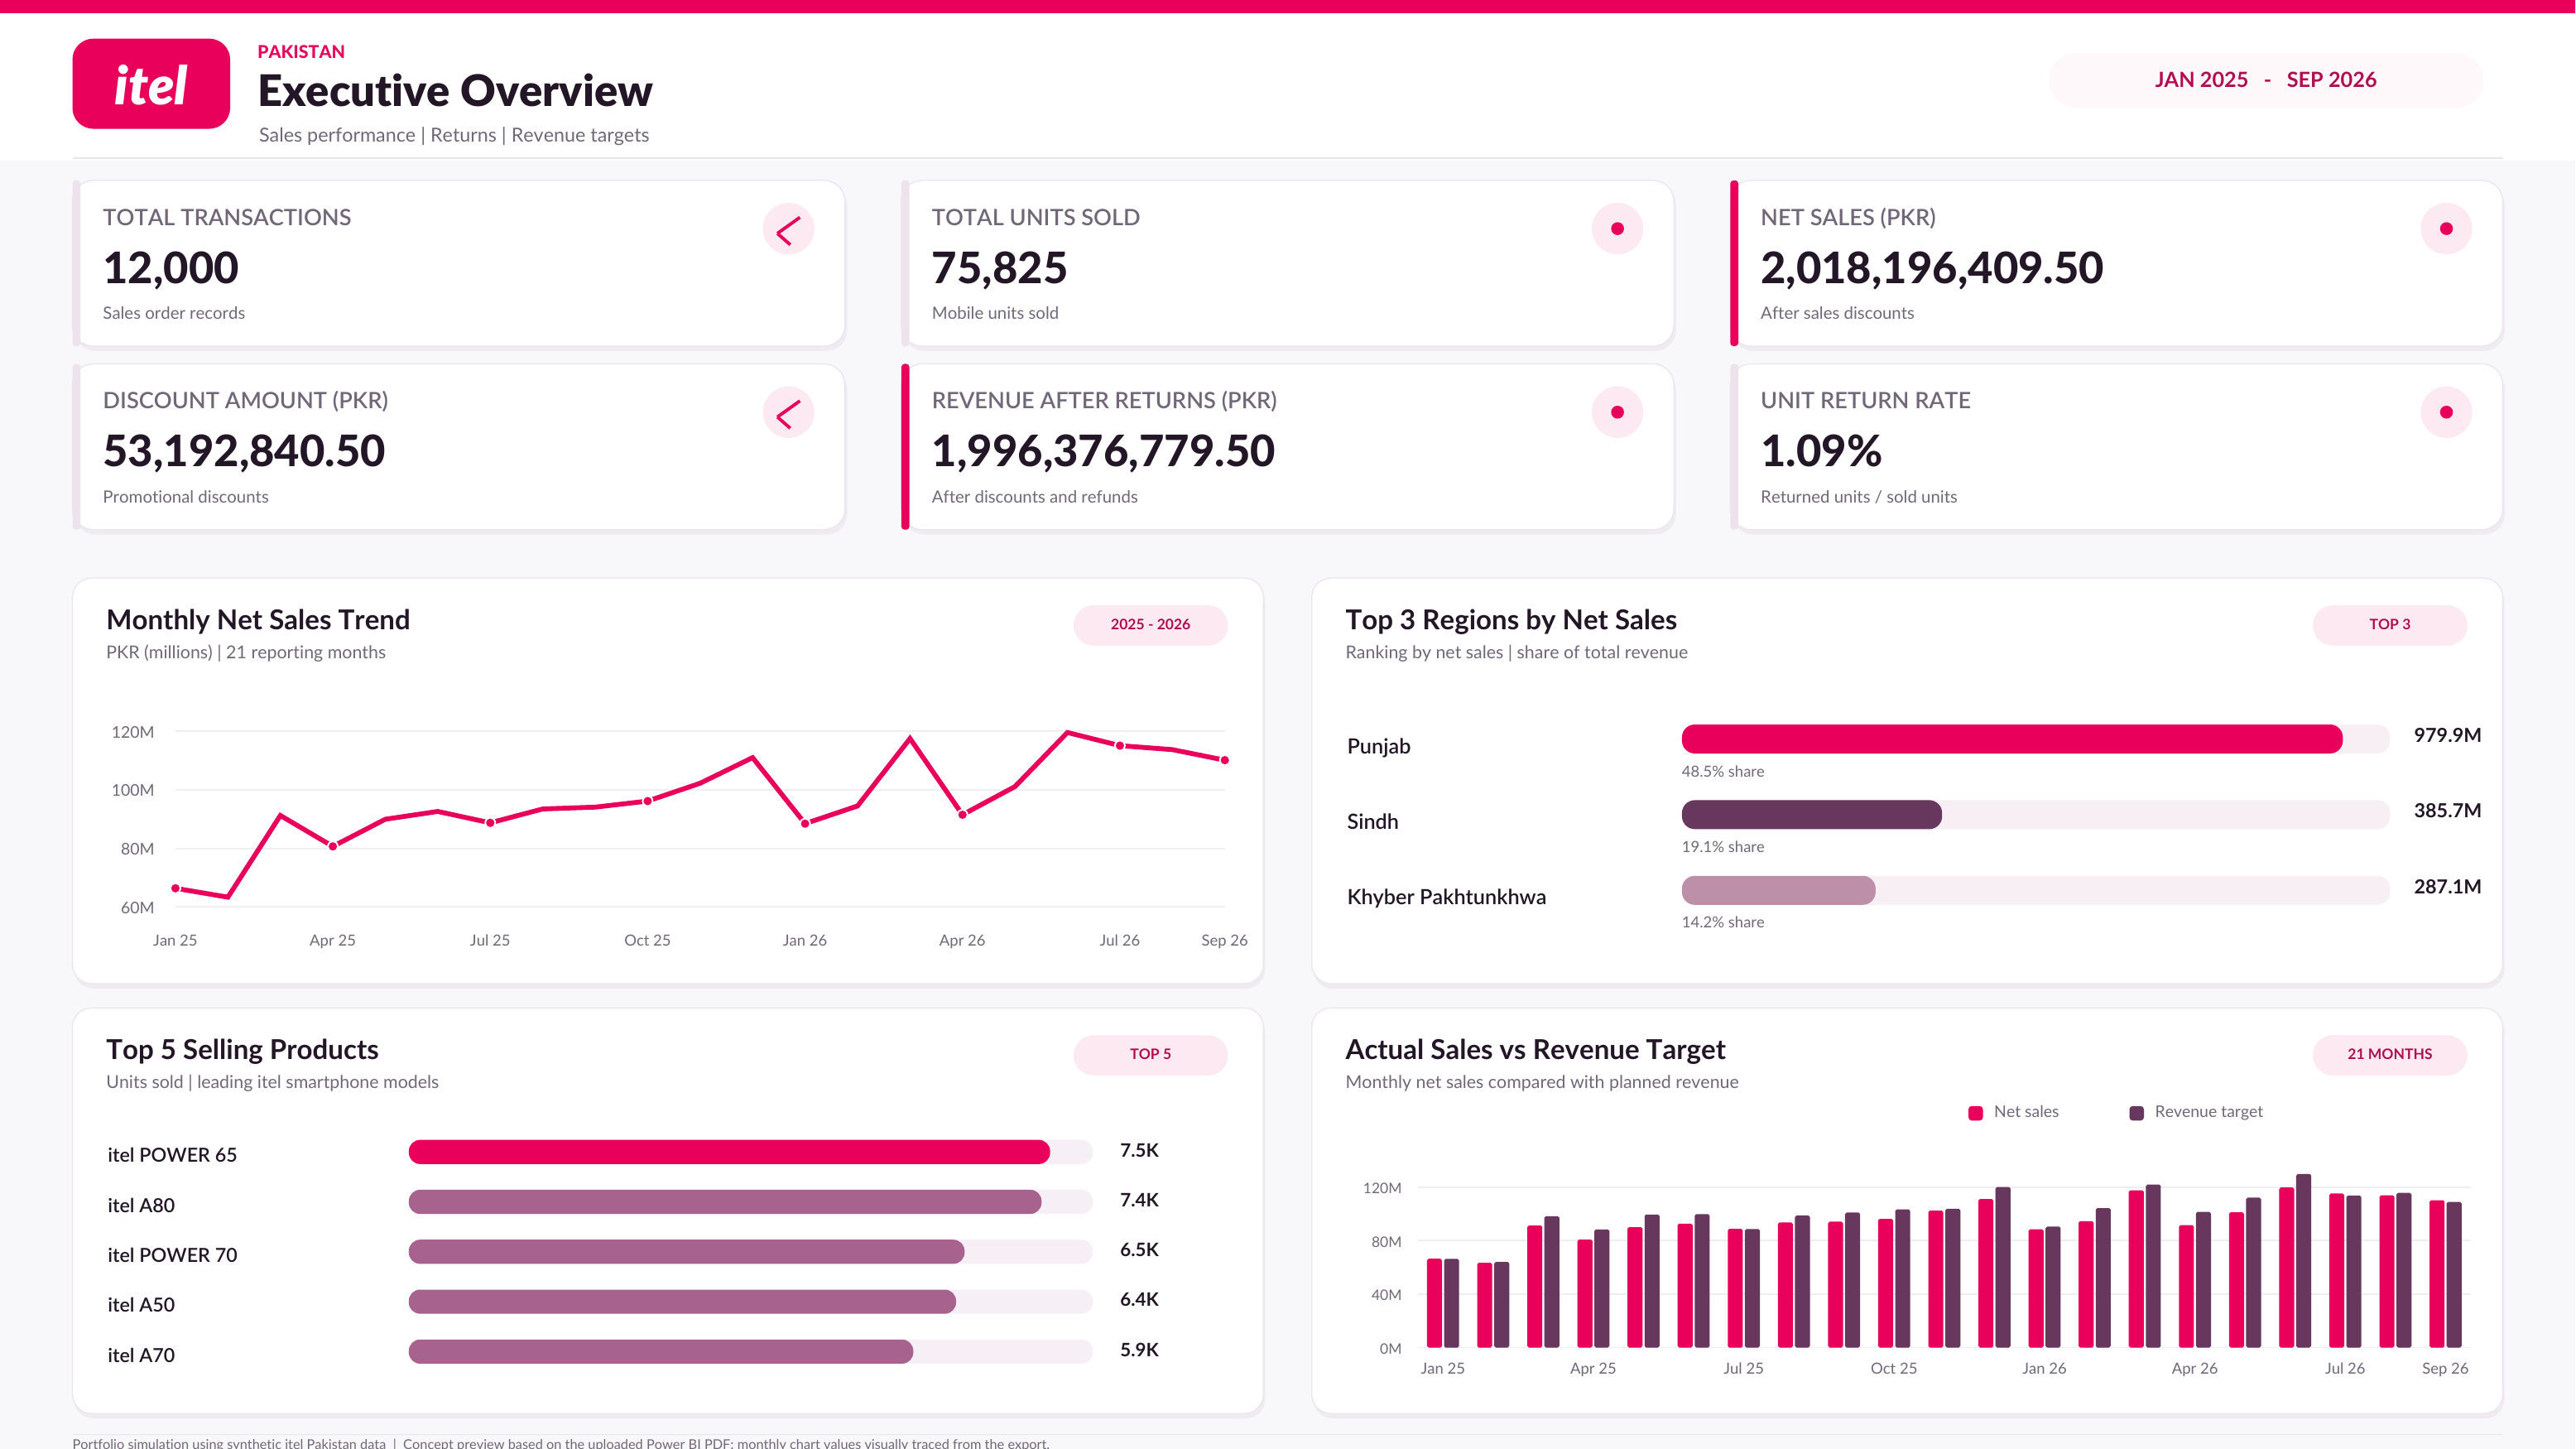

This screenshot's page, from the dashboard's own definition file:
{"tool":"powerbi","page":{"name":"Executive Dashboard","canvas":[1920,2200],"ordinal":0},"visuals":[{"type":"cardVisual","fields":{"Data":["All_Measures.Total Transactions"]},"box":[42.2,105.5,557.9,119.6],"z":0},{"type":"cardVisual","fields":{"Data":["All_Measures.Total Units Sold"]},"box":[618.9,107.8,548.6,119.6],"z":1000},{"type":"cardVisual","fields":{"Data":["All_Measures.Discount Amount PKR"]},"box":[42.2,248.5,560.3,140.7],"z":2000},{"type":"cardVisual","fields":{"Data":["All_Measures.Net Sales PKR"]},"box":[1174.5,110.2,548.6,119.6],"z":3000},{"type":"textbox","box":[52.3,22.7,1396.8,131.9],"z":4000},{"type":"cardVisual","fields":{"Data":["All_Measures.Return Rate %"]},"box":[1174.5,248.5,548.6,140.7],"z":5000},{"type":"cardVisual","fields":{"Data":["All_Measures.Net Revenue After Returns PKR"]},"box":[618.9,248.5,548.6,140.7],"z":6000},{"type":"lineChart","title":"Monthly Net Sales Trend","fields":{"Category":["DimDate_Stage.YearMonth"],"Y":["All_Measures.Net Sales PKR"]},"box":[41.6,418.7,1680.2,549],"z":7000},{"type":"clusteredBarChart","fields":{"Category":["DimRegions_Stage.RegionName"],"Y":["All_Measures.Net Sales PKR"]},"box":[43.3,978.2,918.3,628.8],"z":8000},{"type":"barChart","fields":{"Category":["DimProducts_Stage.ModelName"],"Y":["All_Measures.Total Units Sold"]},"box":[1020,912.5,743.5,628.3],"z":9000},{"type":"clusteredColumnChart","fields":{"Category":["DimDate_Stage.YearMonth"],"Y":["All_Measures.Net Sales PKR","All_Measures.Revenue Target PKR"]},"box":[43.5,1617.4,1678.3,582.6],"z":10000}]}

Visuals, with their boxes on the page's 1920x2200 design canvas (x1, y1, x2, y2). These are canvas units, not pixel positions in the 2576x1449 screenshot, which may show the page scaled, cropped or inside an application window:
cardVisual - All_Measures.Total Transactions: (x1=42, y1=106, x2=600, y2=225)
cardVisual - All_Measures.Total Units Sold: (x1=619, y1=108, x2=1168, y2=227)
cardVisual - All_Measures.Discount Amount PKR: (x1=42, y1=248, x2=602, y2=389)
cardVisual - All_Measures.Net Sales PKR: (x1=1174, y1=110, x2=1723, y2=230)
textbox: (x1=52, y1=23, x2=1449, y2=155)
cardVisual - All_Measures.Return Rate %: (x1=1174, y1=248, x2=1723, y2=389)
cardVisual - All_Measures.Net Revenue After Returns PKR: (x1=619, y1=248, x2=1168, y2=389)
"Monthly Net Sales Trend" lineChart: (x1=42, y1=419, x2=1722, y2=968)
clusteredBarChart - DimRegions_Stage.RegionName x All_Measures.Net Sales PKR: (x1=43, y1=978, x2=962, y2=1607)
barChart - DimProducts_Stage.ModelName x All_Measures.Total Units Sold: (x1=1020, y1=912, x2=1764, y2=1541)
clusteredColumnChart - DimDate_Stage.YearMonth x All_Measures.Net Sales PKR: (x1=44, y1=1617, x2=1722, y2=2200)
